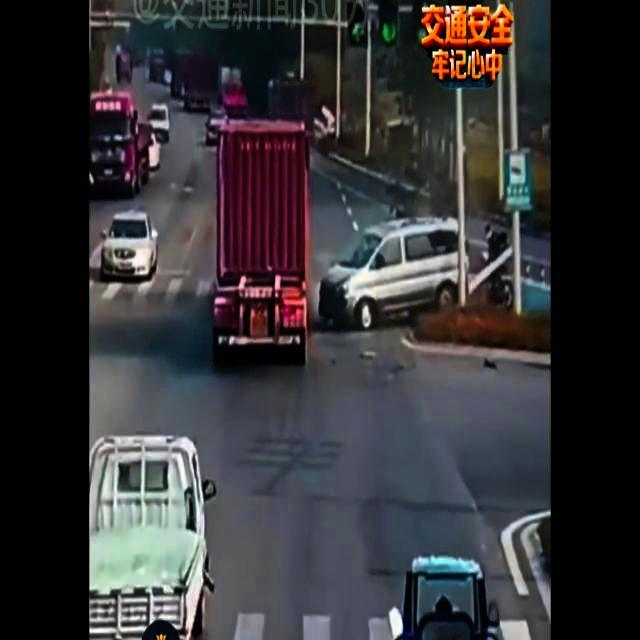accident: (211, 116, 511, 374)
non-accident: (90, 91, 170, 199)
